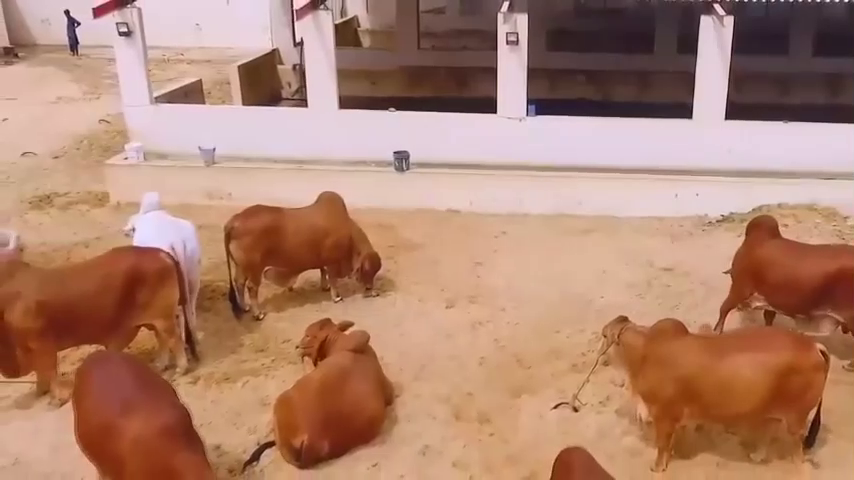bo: (597, 310, 837, 473), (3, 237, 200, 396), (216, 188, 391, 316), (702, 208, 852, 355), (66, 350, 224, 480), (272, 313, 401, 468), (119, 189, 211, 327)
